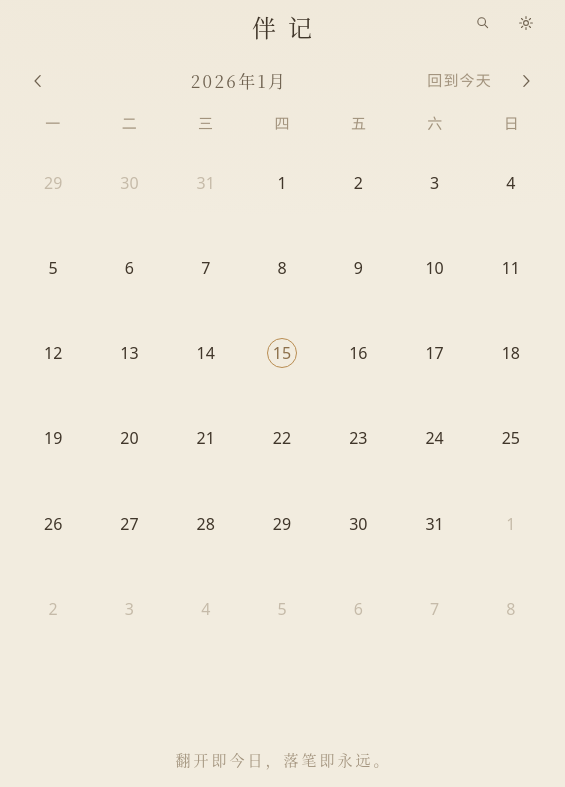
Test: 月历首页 › 月份切换：‹ 走到 2025年12月（跨年）并重新取数；回到今天复位
The width and height of the screenshot is (565, 787).
Click the button named "上一月". click: (38, 81)
box: [16,59,60,103]
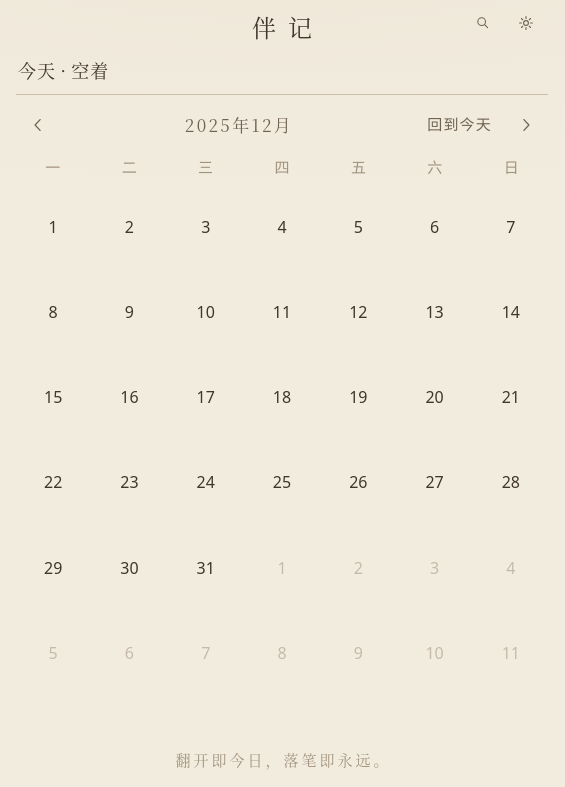
expect the button "2025年12月" is shown: met, box [80,103,398,147]
Click the button "回到今天". click: (460, 125)
box: [417,103,502,147]
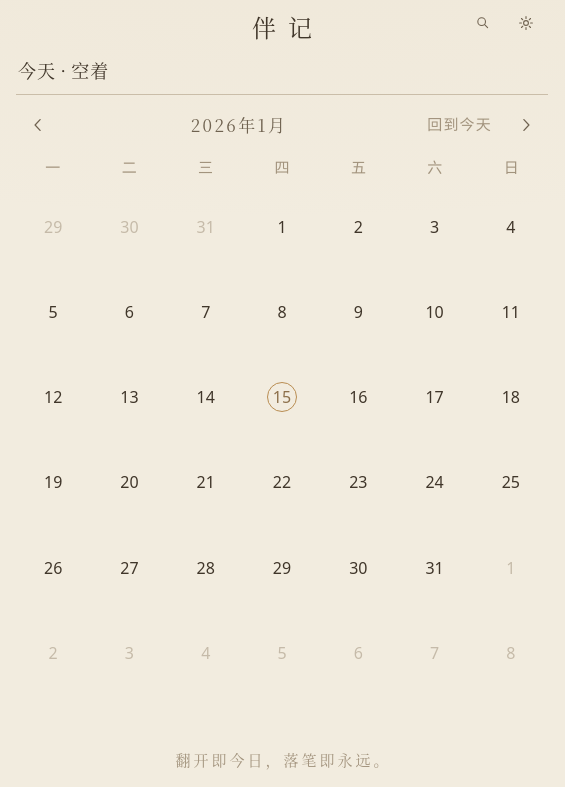
expect the button "2026年1月" is shown: met, box [80,103,398,147]
